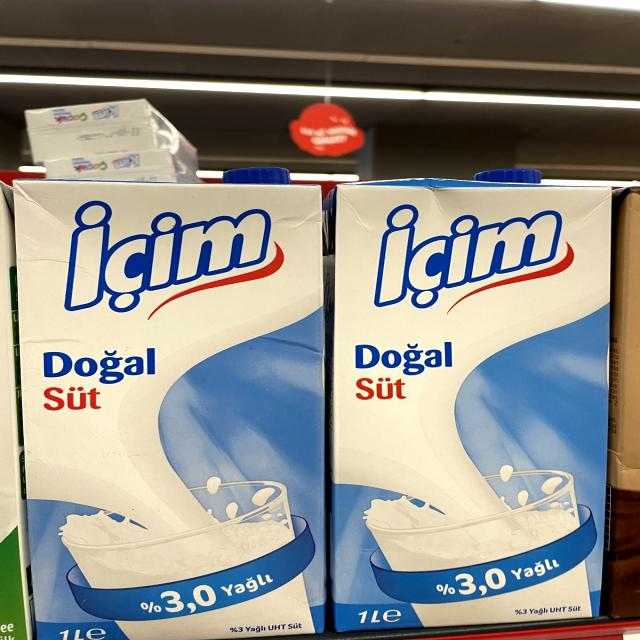milk: (15, 174, 329, 640), (335, 165, 612, 622)
